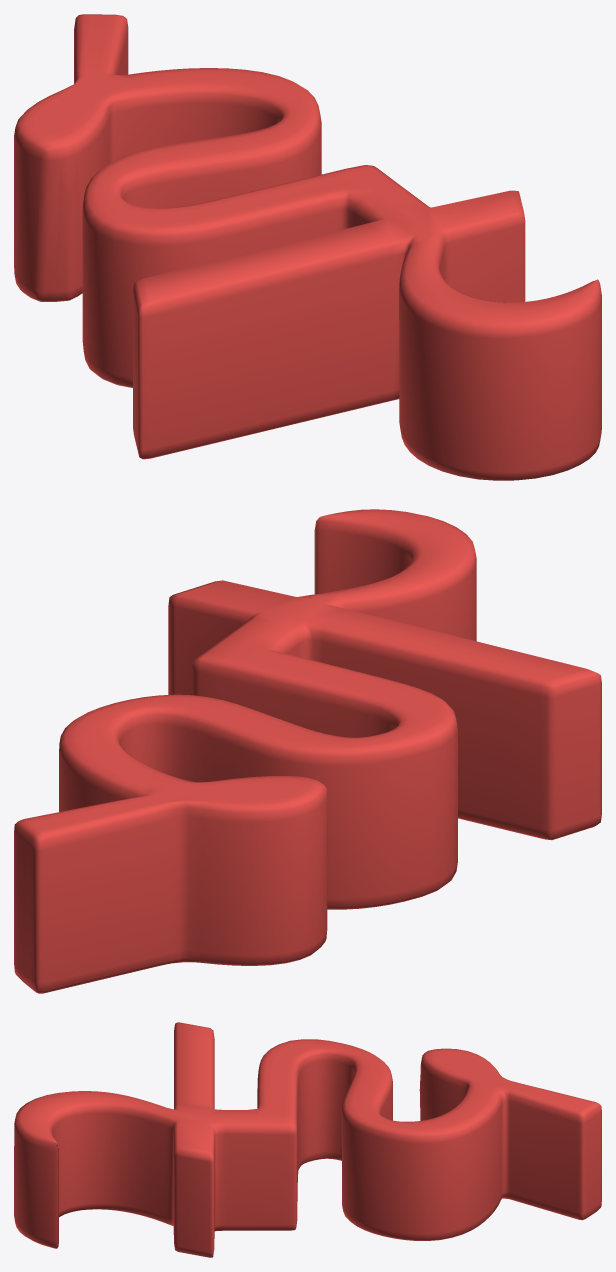
3 views of the same model, one above another, from view 1: azimuth 30°, elevation 25°; view 2: azimuth 150°, elevation 25°; view 3: azimuth 270°, elevation 25° (orthographic). The views are drawn at different scales.
Visible parts, largest first — view 1: 3D_Alphabets_Hindi_Language_02.004; view 2: 3D_Alphabets_Hindi_Language_02.004; view 3: 3D_Alphabets_Hindi_Language_02.004.
Part boxes in pixels (x1,y1,x2,y2): 3D_Alphabets_Hindi_Language_02.004: [14, 14, 601, 480]; 3D_Alphabets_Hindi_Language_02.004: [14, 509, 601, 993]; 3D_Alphabets_Hindi_Language_02.004: [14, 1022, 601, 1257].
Bounding box in the file's own units: 0.5607 × 0.2137 × 1.04.
